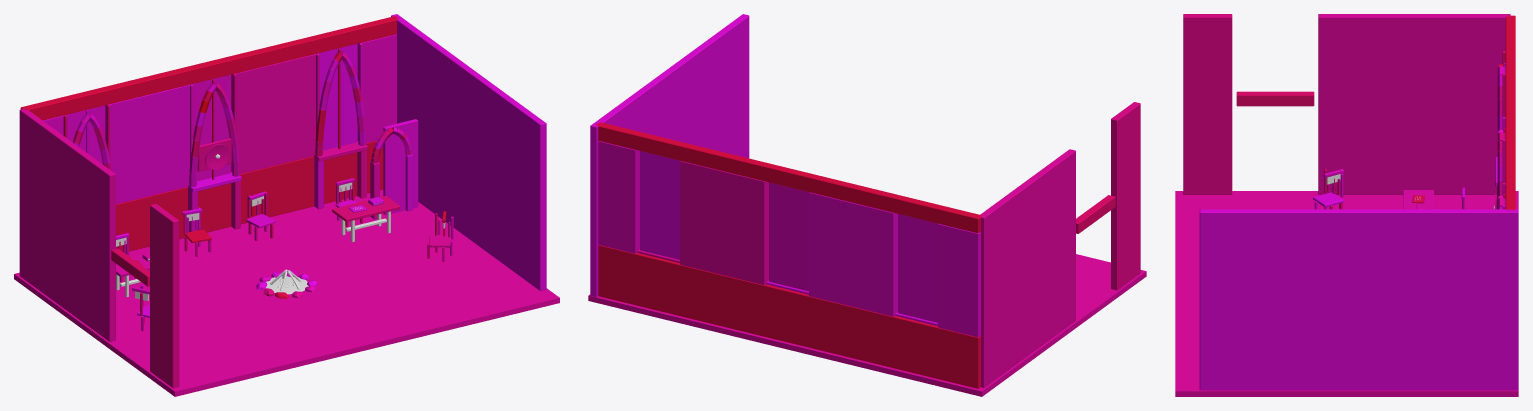
The model's file is court_chapter_08.glb.
The picture shows the model from 3 angles, left to right: view 1: azimuth 30°, elevation 25°; view 2: azimuth 150°, elevation 25°; view 3: azimuth 270°, elevation 25°; orthographic projection. The views are drawn at different scales.
Visible parts, largest first — view 1: Floor, WallRight, WallLeftRear, WallBackLow, WallBackPier_2, WallBackPier_1, WallBackHigh, WallLeftFront, WallBackPier_end, Glazing_2, SolarScreen, Glazing_1 (+20 smaller); view 2: WallBackLow, WallLeftRear, WallRight, WallBackPier_2, WallBackPier_1, WallBackHigh, Floor, WallLeftFront, WallBackPier_0, WallBackPier_end, Glazing_2, Glazing_0 (+2 smaller); view 3: WallRight, WallLeftRear, Floor, WallLeftFront, WallBackHigh, DoorLintel, Chair_officials_2, Desk_0, PointedWindow_0_Curve, PointedWindow_1_Curve.
Part boxes in pixels (x1,y1,x2,y2): Floor: [14, 189, 559, 396]; WallRight: [391, 14, 546, 290]; WallLeftRear: [19, 109, 115, 341]; WallBackLow: [116, 141, 383, 251]; WallBackPier_2: [231, 54, 315, 173]; WallBackPier_1: [105, 84, 189, 204]; WallBackHigh: [20, 16, 398, 120]; WallLeftFront: [150, 204, 179, 388]; WallBackPier_end: [357, 34, 396, 143]; Glazing_2: [318, 44, 357, 150]; SolarScreen: [383, 119, 418, 214]; Glazing_1: [192, 74, 231, 181]; WallBackLow: [598, 245, 980, 388]; WallLeftRear: [980, 149, 1075, 387]; WallRight: [590, 14, 749, 297]; WallBackPier_2: [680, 161, 768, 285]; WallBackPier_1: [809, 192, 897, 316]; WallBackHigh: [596, 122, 982, 233]; Floor: [588, 254, 1146, 396]; WallLeftFront: [1111, 102, 1140, 290]; WallBackPier_0: [938, 223, 980, 337]; WallBackPier_end: [598, 141, 639, 253]; Glazing_2: [640, 151, 680, 259]; Glazing_0: [898, 214, 937, 322]; WallRight: [1199, 209, 1518, 390]; WallLeftRear: [1318, 14, 1510, 194]; Floor: [1175, 191, 1518, 396]; WallLeftFront: [1183, 14, 1232, 194]; WallBackHigh: [1505, 15, 1515, 210]; DoorLintel: [1236, 91, 1314, 106]; Chair_officials_2: [1313, 169, 1343, 209]; Desk_0: [1403, 190, 1433, 209]; PointedWindow_0_Curve: [1497, 64, 1505, 132]; PointedWindow_1_Curve: [1497, 130, 1505, 197].
Size of the model in its own units: 11.6 by 4.95 by 8.4.
